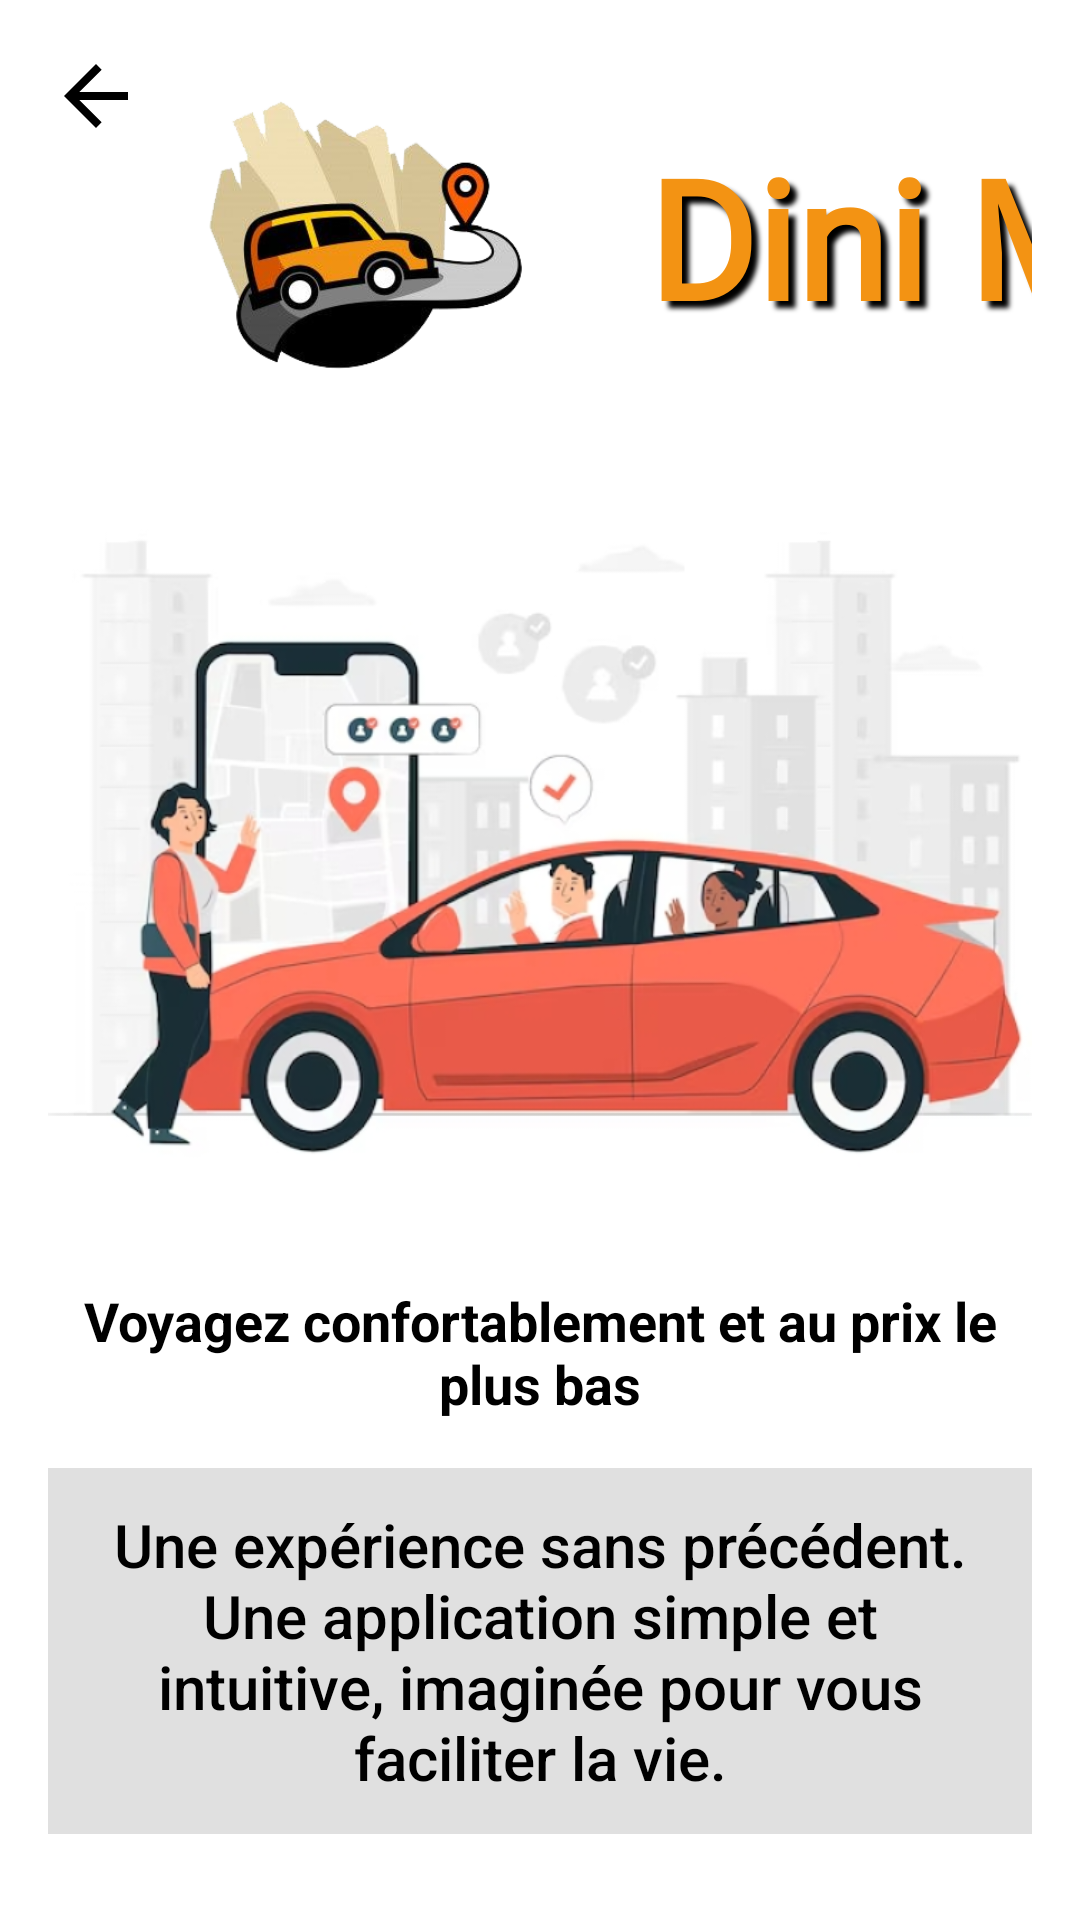

Where icons sit on this 1080 x 1920 app screen, as (x1, y1, x2, y2):
Retour: (64, 64, 128, 128)
